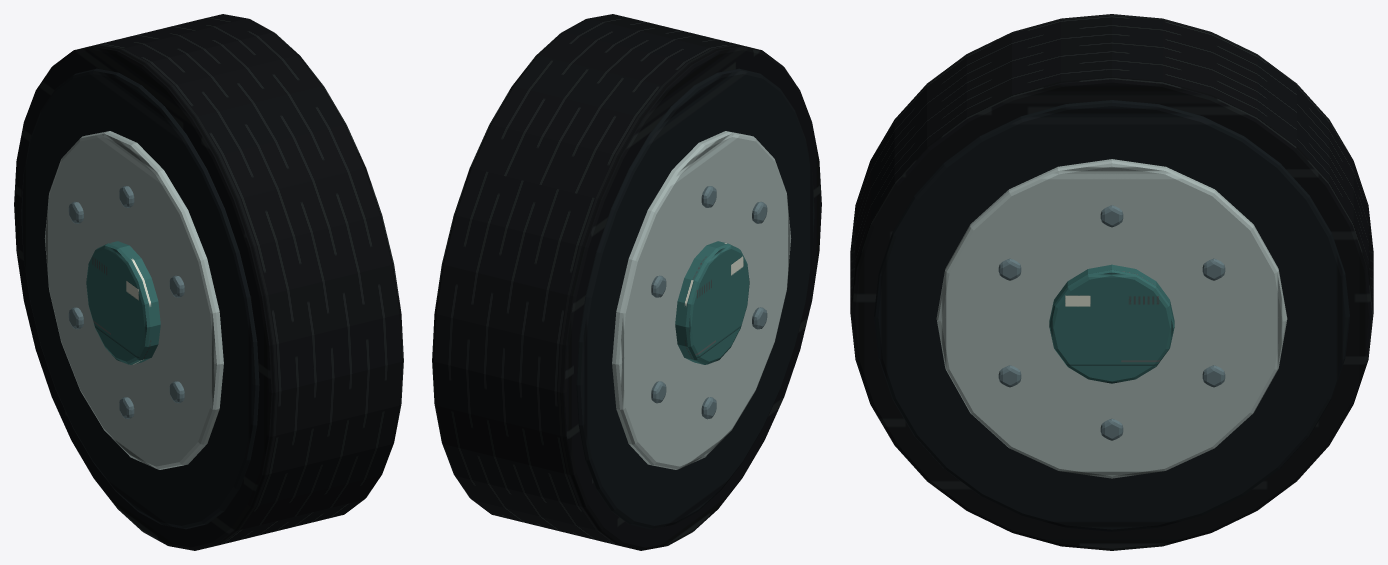
The model's file is SM_RabbitTrike_Wheel.fbx.
The picture shows the model from 3 angles, left to right: view 1: azimuth 30°, elevation 25°; view 2: azimuth 150°, elevation 25°; view 3: azimuth 270°, elevation 25°; orthographic projection.
Parts seen in each view (by area): view 1: SM_RabbitTrike_Wheel; view 2: SM_RabbitTrike_Wheel; view 3: SM_RabbitTrike_Wheel.
Boxes of the visible parts, left/top/right/bottom form: SM_RabbitTrike_Wheel: left=14, top=14, right=403, bottom=550; SM_RabbitTrike_Wheel: left=432, top=14, right=821, bottom=550; SM_RabbitTrike_Wheel: left=850, top=14, right=1373, bottom=550.
Size of the model in its own units: 25 by 60 by 60.
